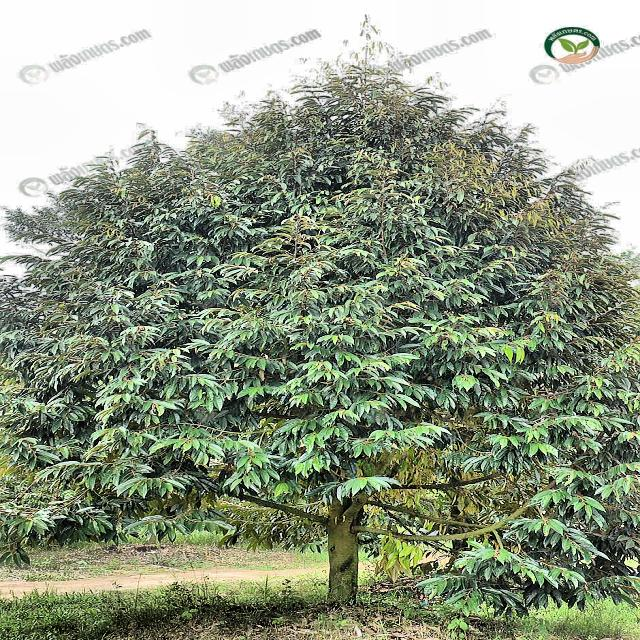arvore: (290, 319, 403, 610)
